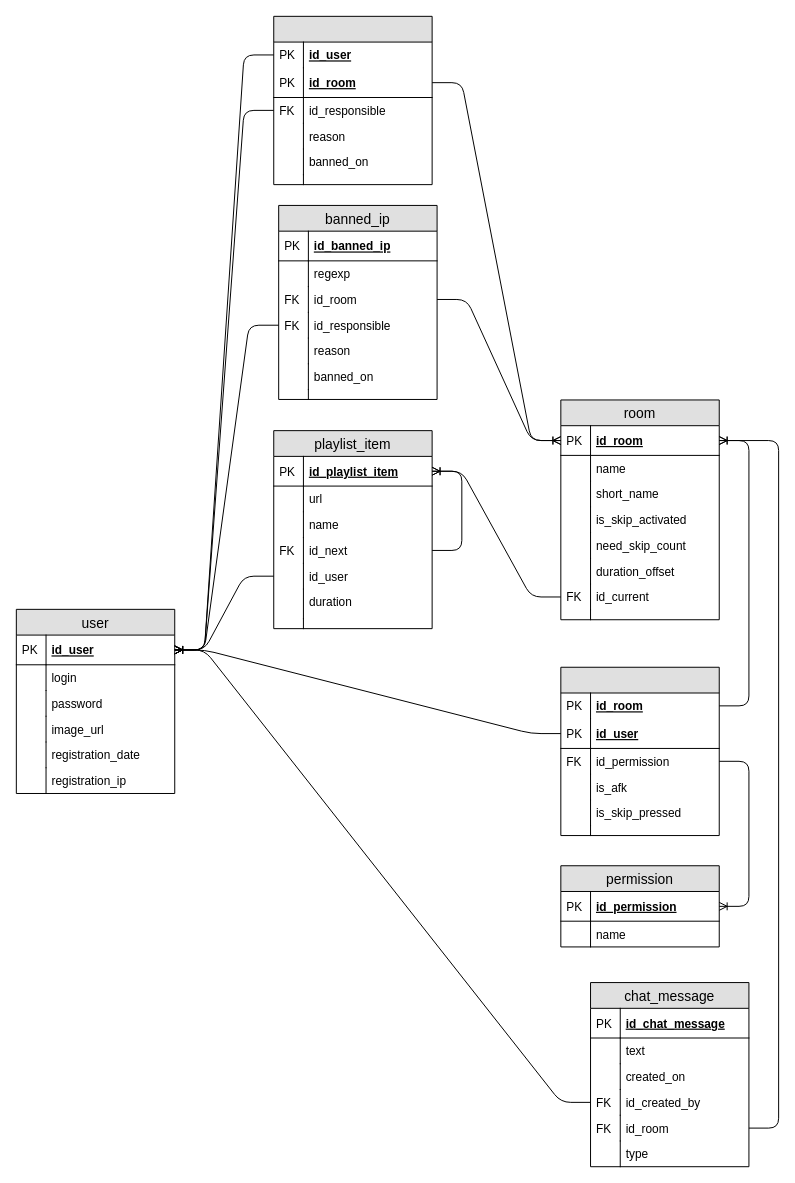
Some shapes in this 795 by 1183 pixel diagram are drawn without their labels. The box of each missing label's shape, as (x1, y1, x2, y2) in pixels:
ban_list: (273, 15, 432, 185)
room_x_user: (560, 666, 719, 836)
